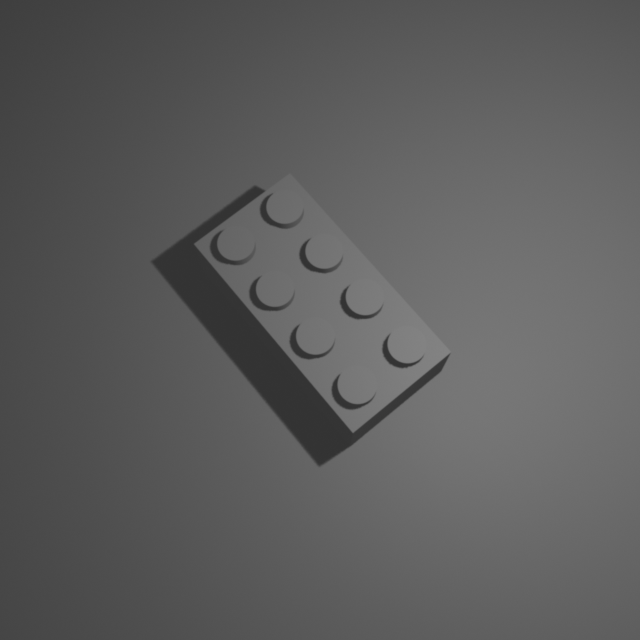lego_2x4: (192, 168, 453, 446)
